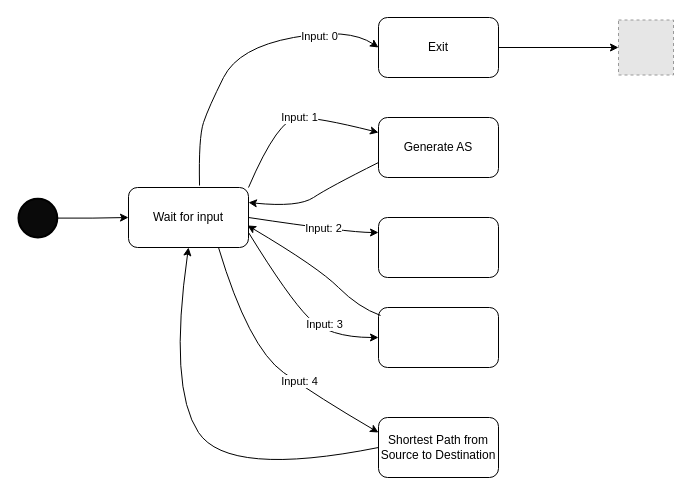
Some shapes in this 691 by 495 pixel diagram are drawn without their labels. Grey dashed boxes stand in for pictures. The centre of each missing label's shape, as x and y in pixels:
"Display AS" goes at (x=438, y=247).
"Display Summary" goes at (x=438, y=337).
